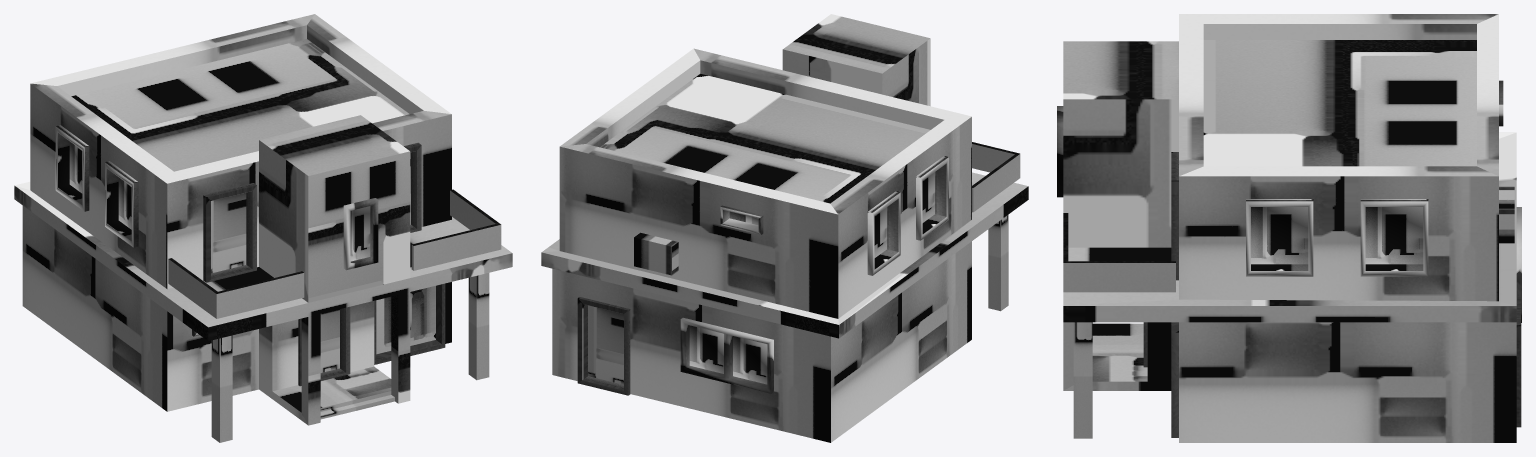
File: family_house_04.glb
The picture shows the model from 3 angles, left to right: view 1: azimuth 30°, elevation 25°; view 2: azimuth 150°, elevation 25°; view 3: azimuth 270°, elevation 25°; orthographic projection. The views are drawn at different scales.
Parts seen in each view (by area): view 1: house5_baked_Cube.064; view 2: house5_baked_Cube.064; view 3: house5_baked_Cube.064.
Part boxes in pixels (bbox=[...]): house5_baked_Cube.064: bbox=[14, 14, 512, 442]; house5_baked_Cube.064: bbox=[541, 14, 1028, 442]; house5_baked_Cube.064: bbox=[1057, 14, 1521, 442].
Size of the model in its own units: 2.13 by 1.68 by 2.42.
1 material, 1 textured.
